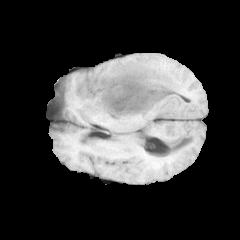glioma: (86, 57, 184, 117)
